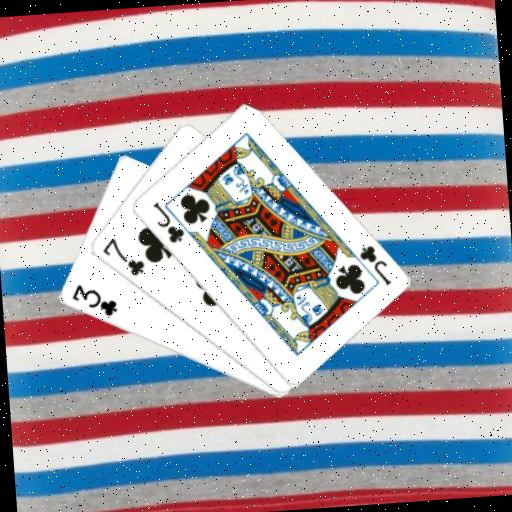3C: (67, 279, 119, 321)
7C: (98, 234, 147, 281)
JC: (149, 197, 187, 246), (355, 241, 393, 290)
